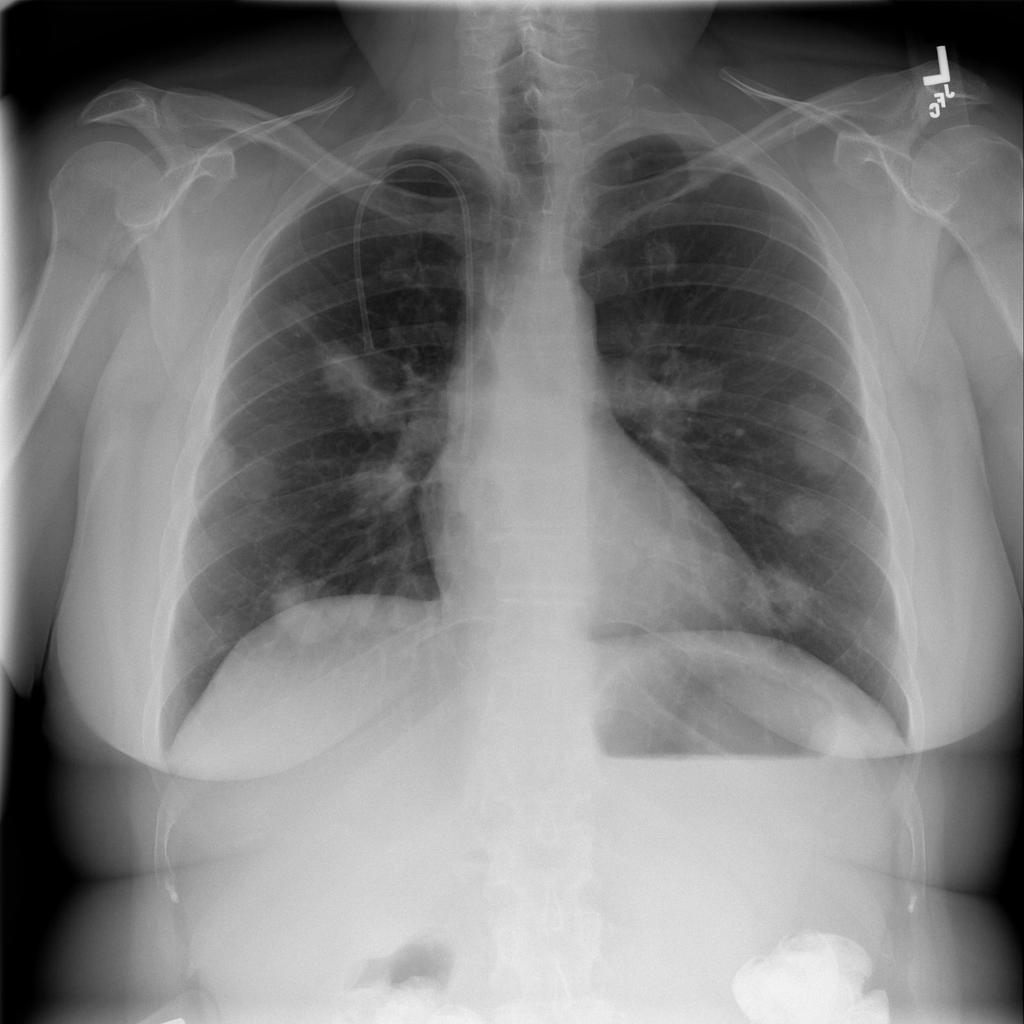nodule: (250, 550, 361, 660), (735, 549, 831, 648), (784, 423, 862, 490), (764, 482, 843, 544), (273, 292, 331, 346), (236, 454, 292, 506), (786, 390, 840, 433)
